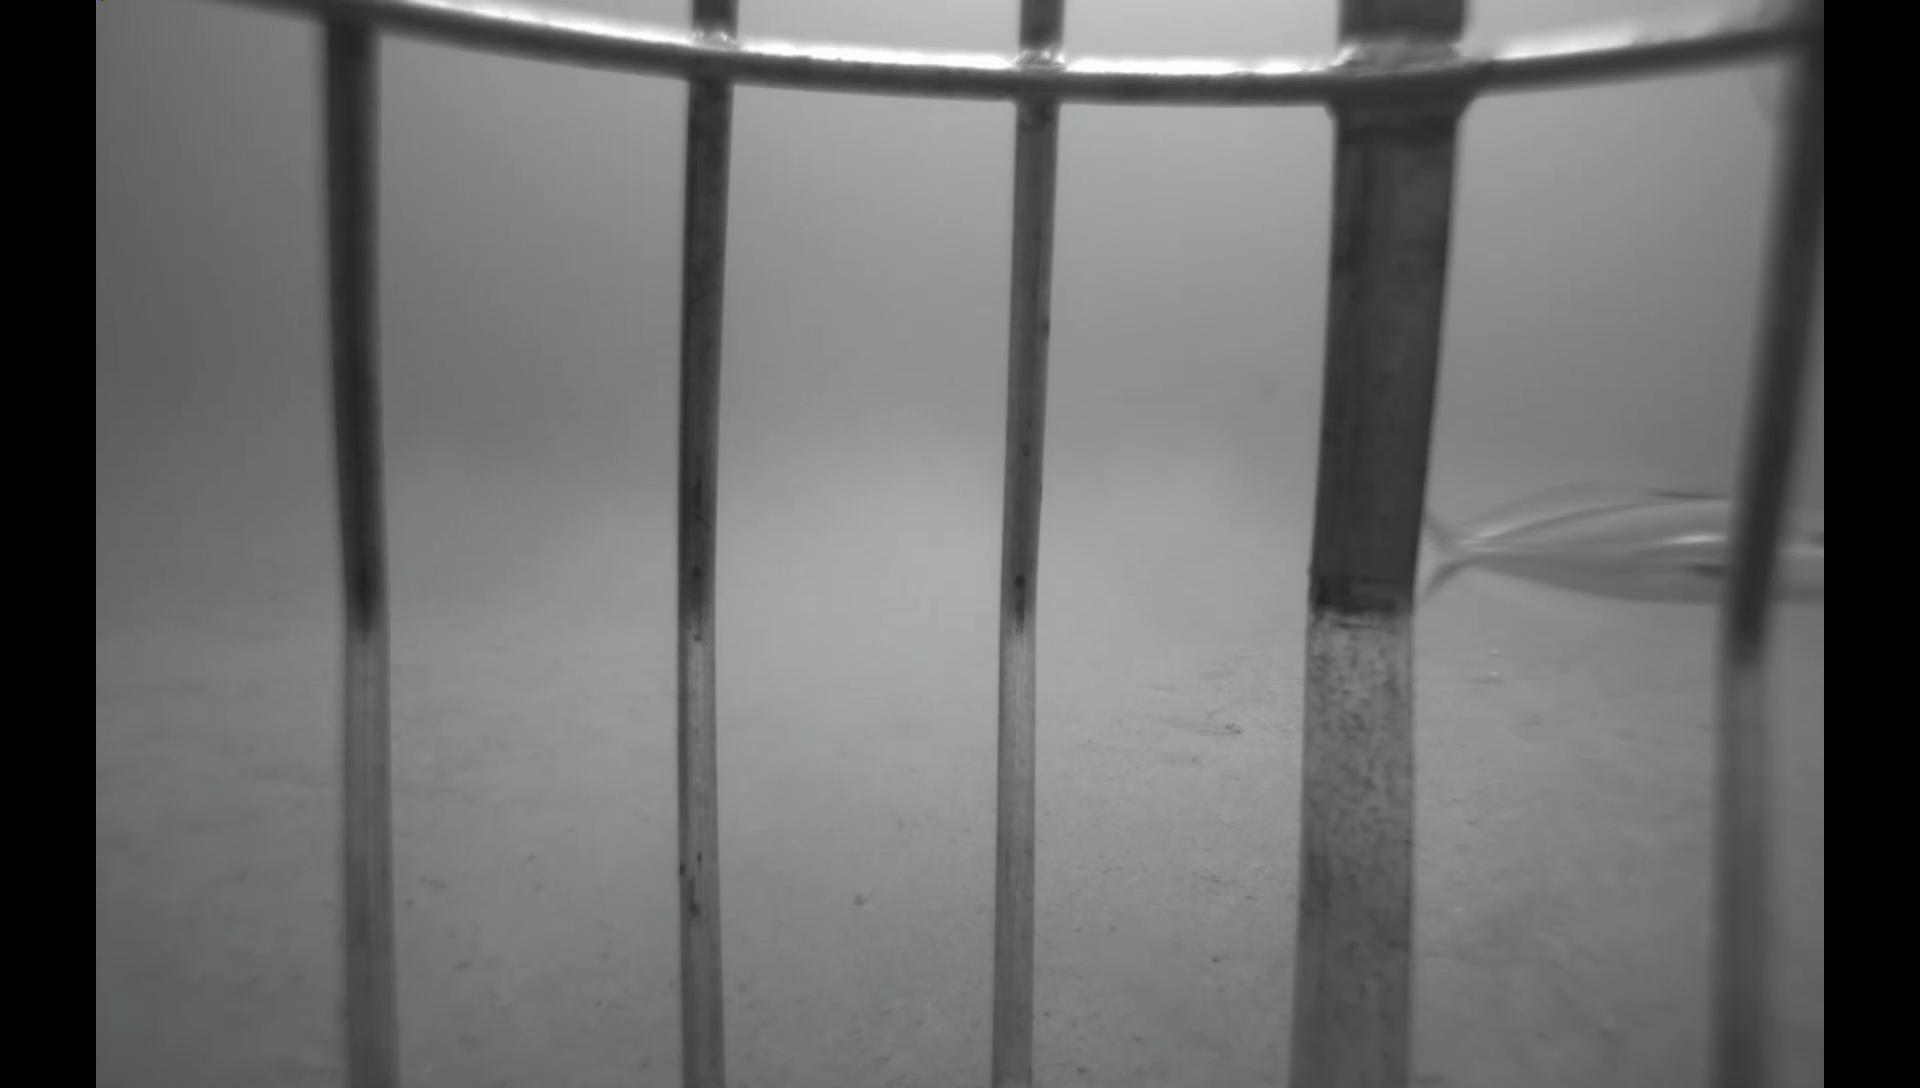CAULOLATILUSCYANOPS-170070101: (1414, 477, 1825, 626)
PRISTIPOMOIDES-170151800: (94, 593, 189, 651)
SYACIUM-183011000: (1143, 699, 1249, 742)
